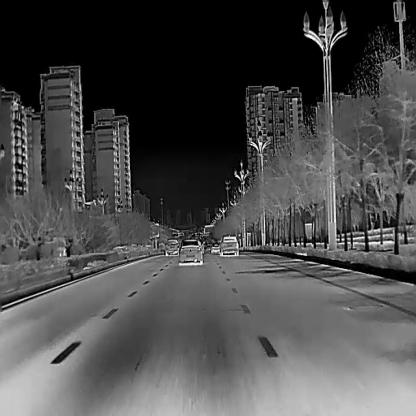car: (179, 238, 203, 265), (219, 233, 239, 256), (164, 237, 179, 256), (210, 242, 220, 254)
